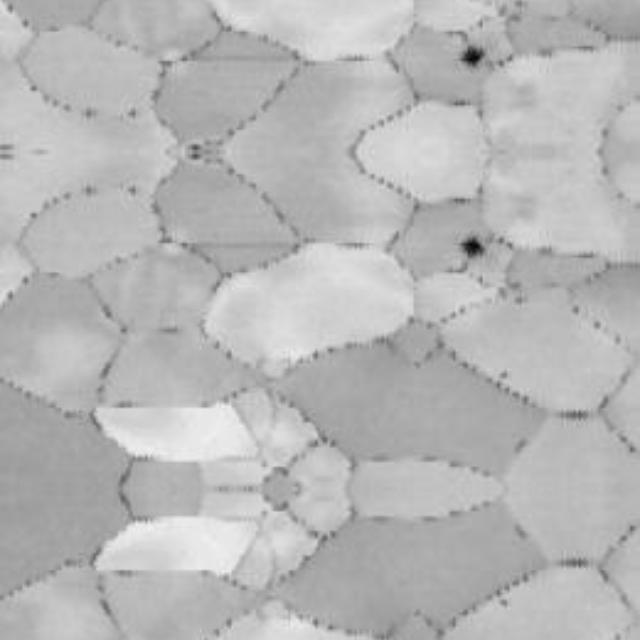good_void: (459, 233, 488, 255), (459, 47, 488, 69)
